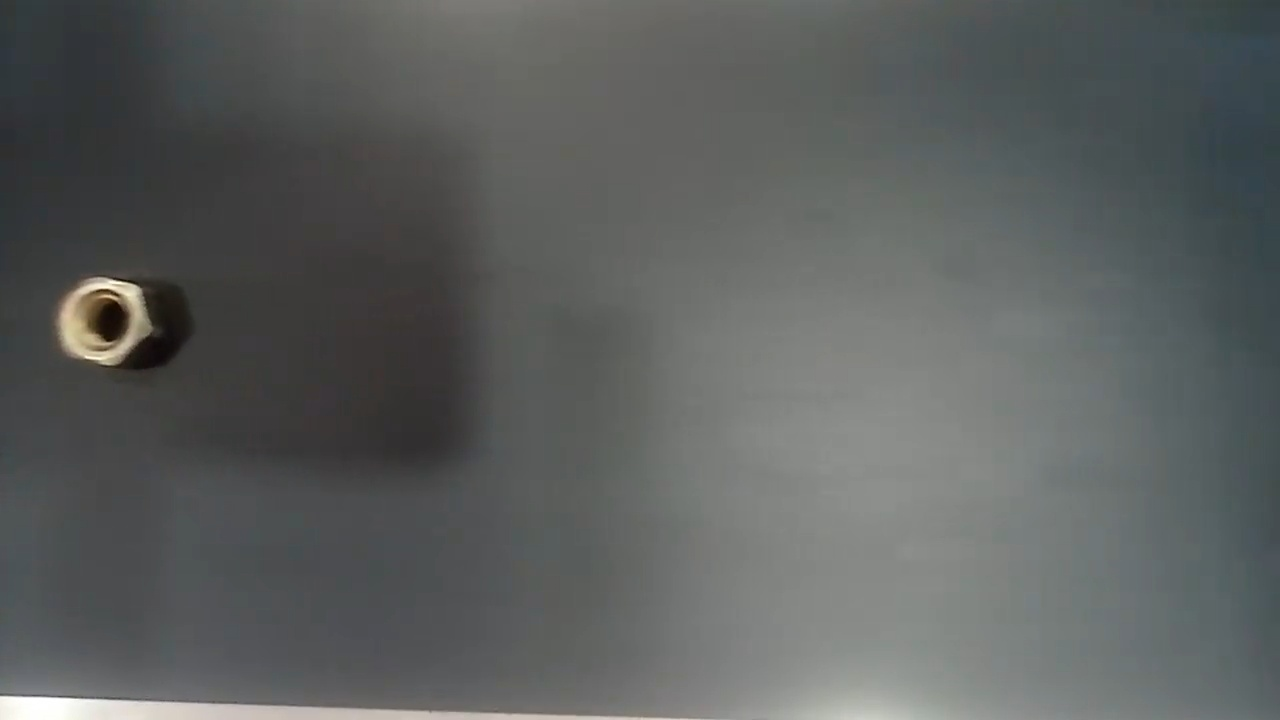Bolt: (50, 268, 161, 372)
